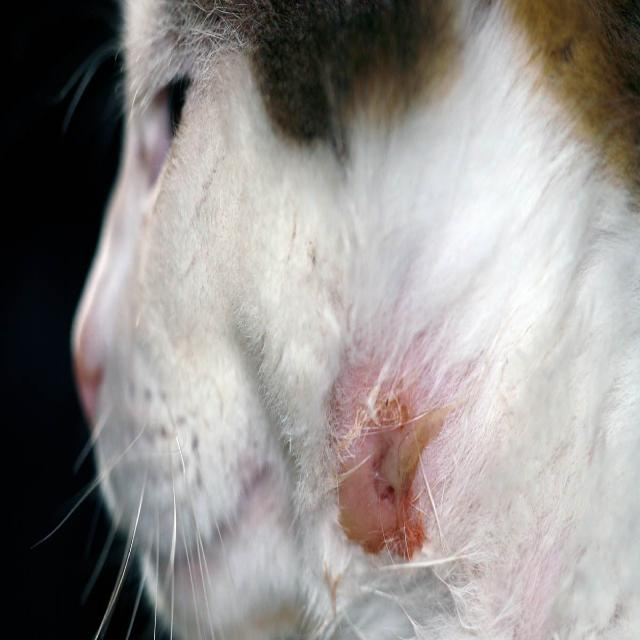cat-lump-and-bump: (323, 336, 450, 572)
